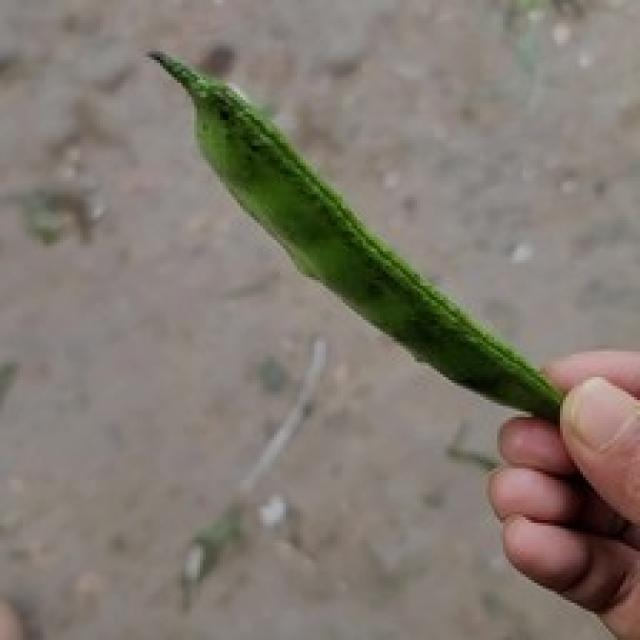Bean: (143, 46, 566, 423)
